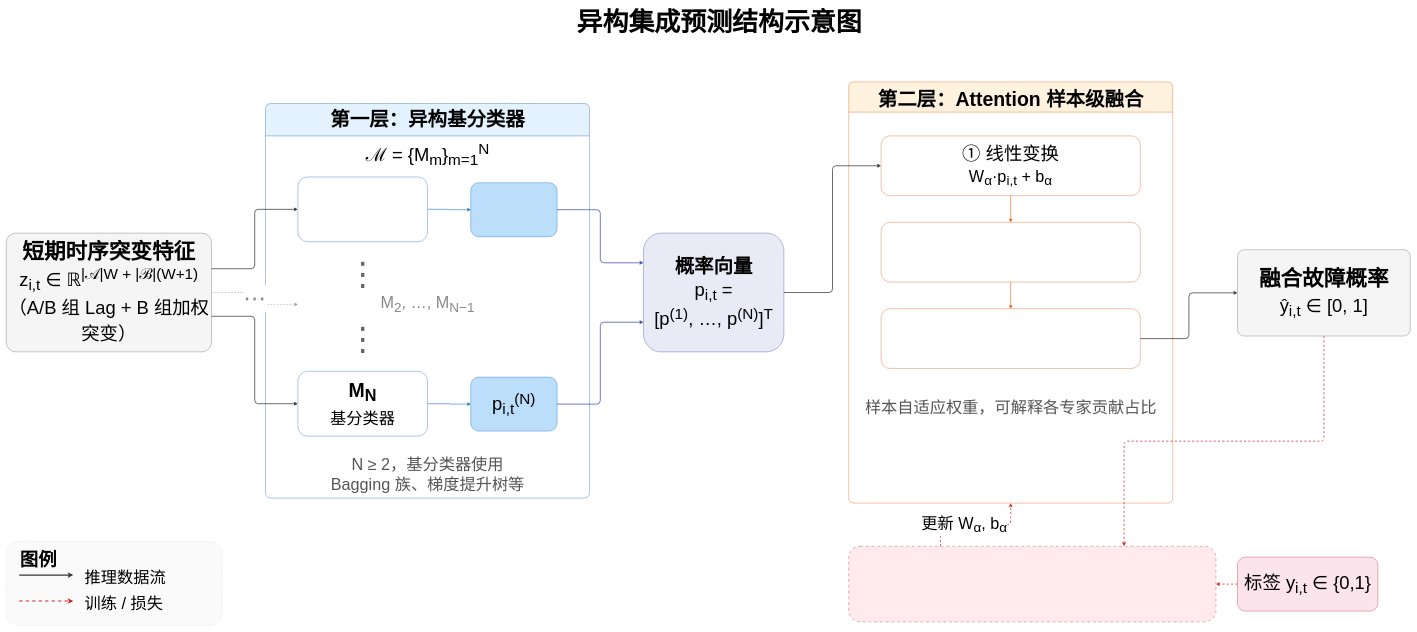
The diagram is 1417 pixels wide and 632 high, and some of its shapes have lost their labels. The centre of each missing label's shape, as x and y in pixels:
Focal Loss ℒ FL 对易分样本降权，强化少数类故障样本 在验证集上更新 W α , b α （γ=2）: point 1032,584
M 1 基分类器: point 363,209
p i,t (1): point 513,209
② Softmax 归一化 α i,t (m) ，Σ m α = 1: point 1010,252
③ 加权组合 ŷ i,t = Σ m=1 N α (m) ·p (m): point 1010,338
